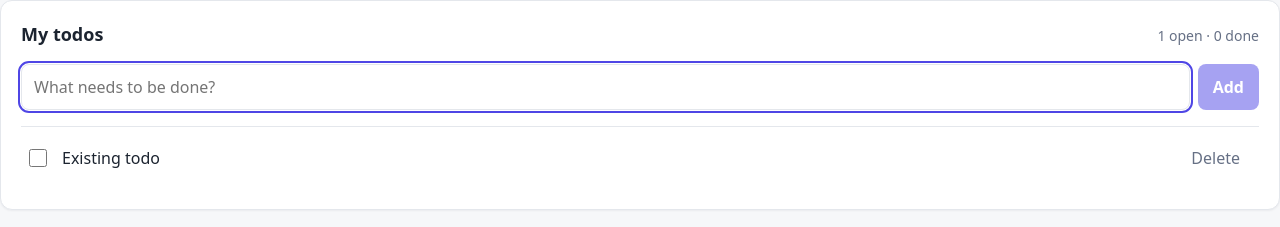
Test: TodoApp › completes a todo and updates the counter
This screenshot has width=1280, height=227.
Click the checkbox named "Complete \"Existing todo\"".
click(38, 158)  # box [29,149,47,167]
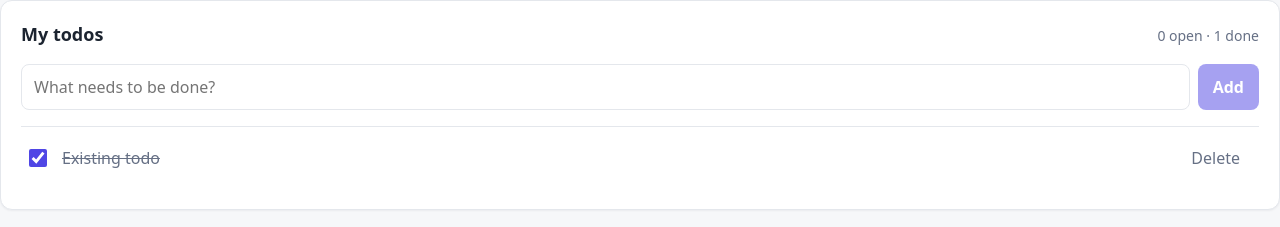
Expected: the text with test id "todo-counter" reads "0 open · 1 done", [1157,25,1259,46]
